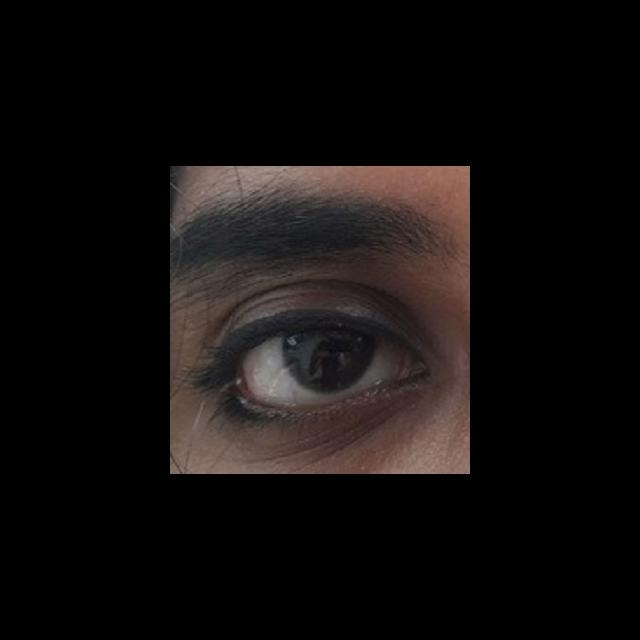eye: (242, 326, 404, 408)
iris: (283, 329, 380, 393)
